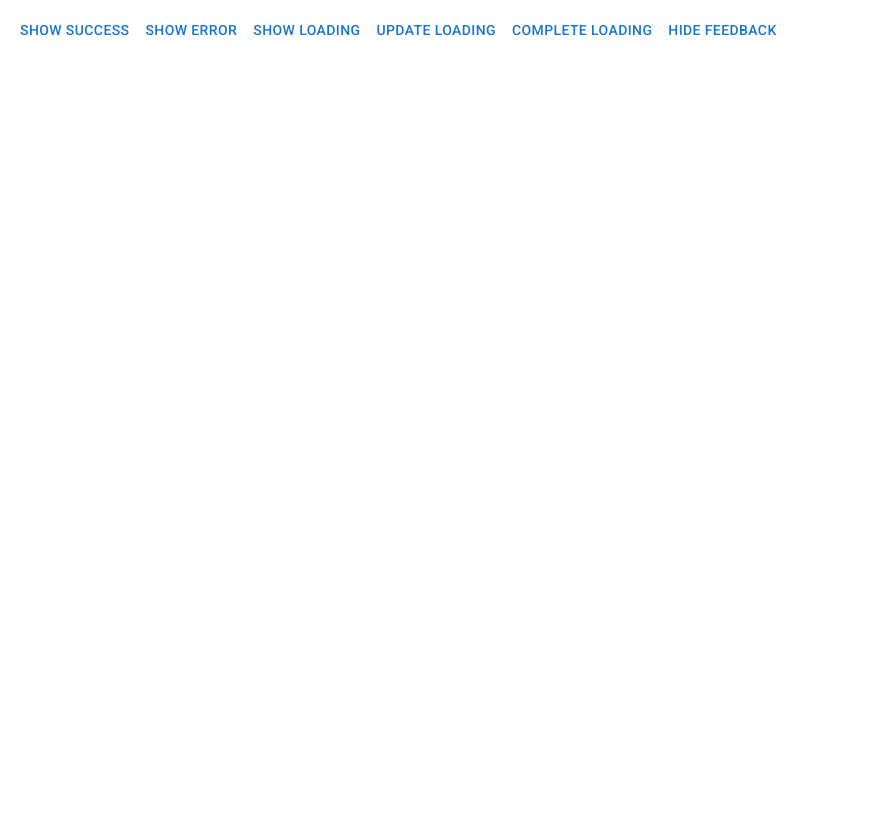
Scenario: ActionFeedbackContext › should show success feedback
Click the show success button
What coordinates should you click on to do the following:
click the button with test id "show-success"
I would click on:
 (75, 30)
Its box is [12,12,137,48].
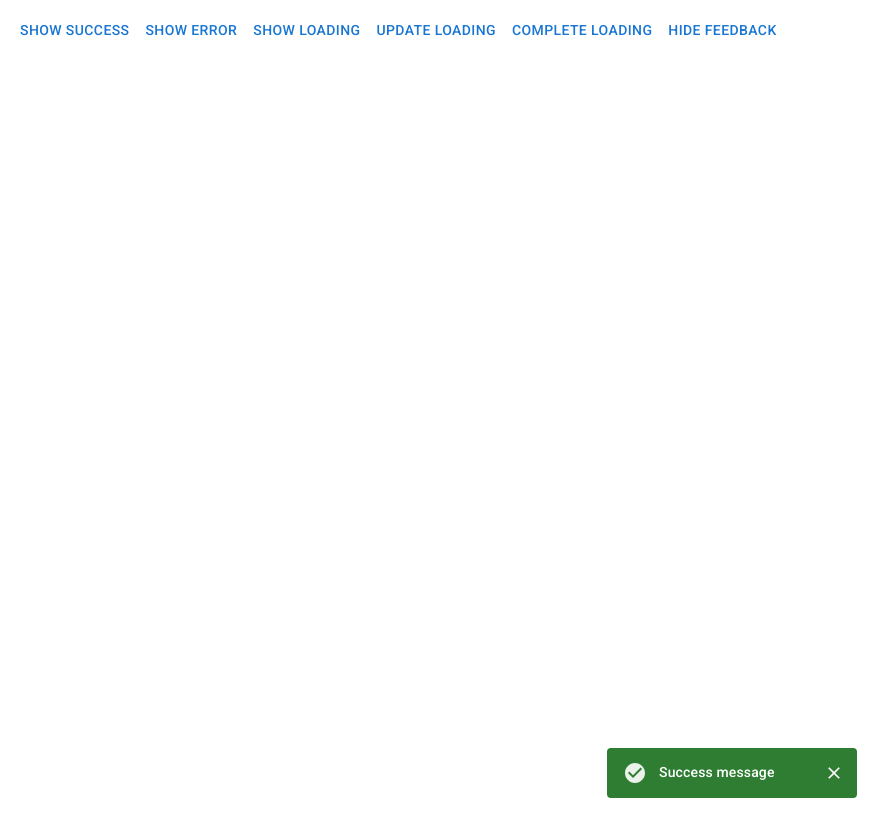
Expected: the text "Success message" is shown, [659,762,775,782]
